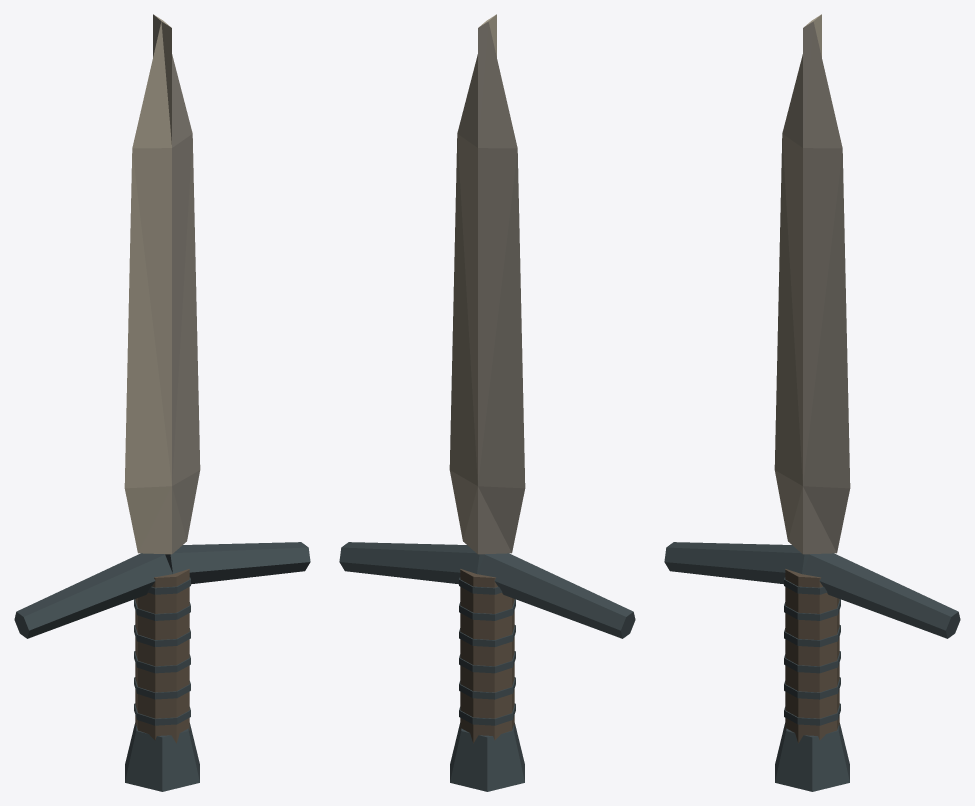
The model's file is Equip_SwordIron.fbx.
3 renders of one model, left to right at view 1: azimuth 30°, elevation 25°; view 2: azimuth 150°, elevation 25°; view 3: azimuth 330°, elevation 25°, orthographic.
Parts seen in each view (by area): view 1: Equip_SwordIron; view 2: Equip_SwordIron; view 3: Equip_SwordIron.
Boxes of the visible parts, bbox=[...] form: Equip_SwordIron: bbox=[14, 14, 310, 791]; Equip_SwordIron: bbox=[339, 14, 635, 791]; Equip_SwordIron: bbox=[664, 14, 960, 791].
Bounding box in the file's own units: 0.547 × 1.38 × 0.1247.
